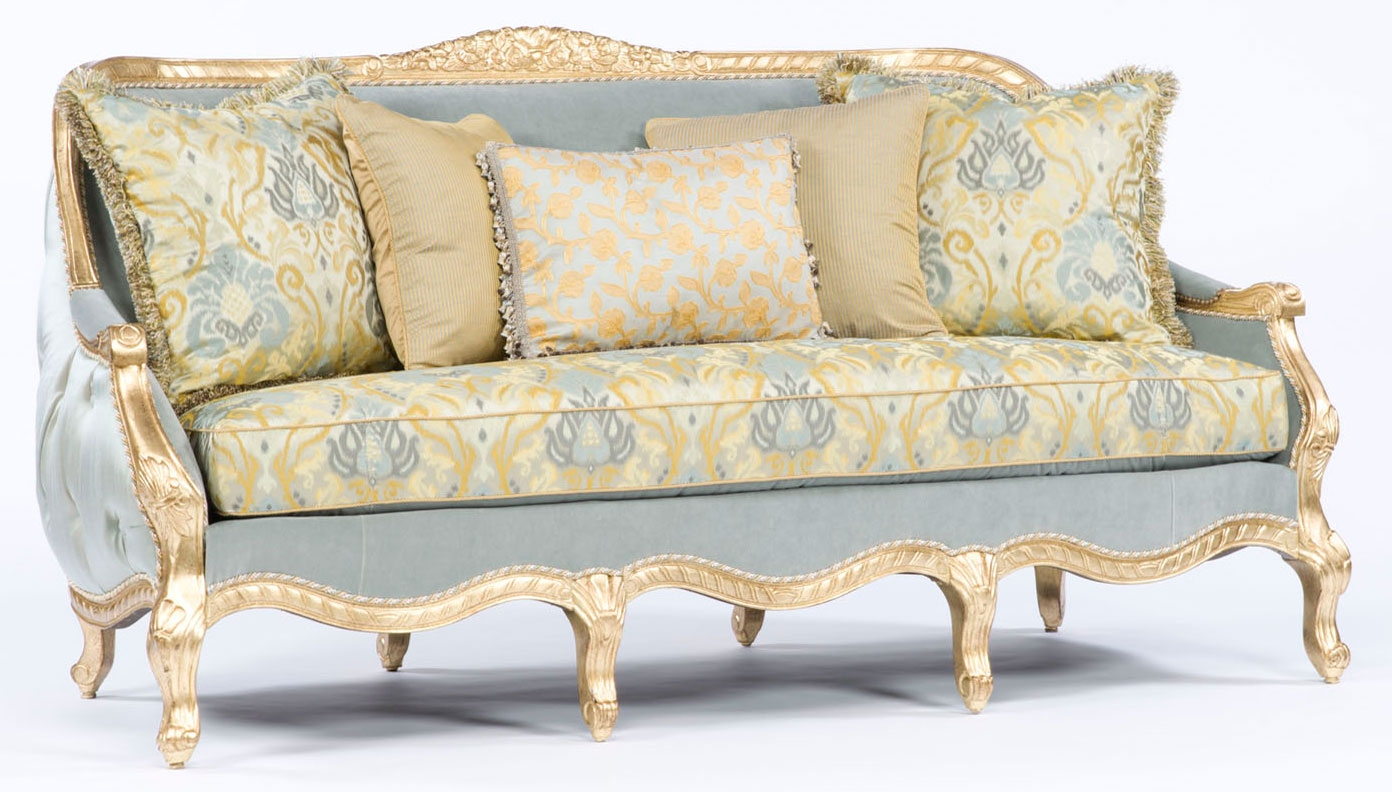chairs: (33, 27, 1365, 784)
